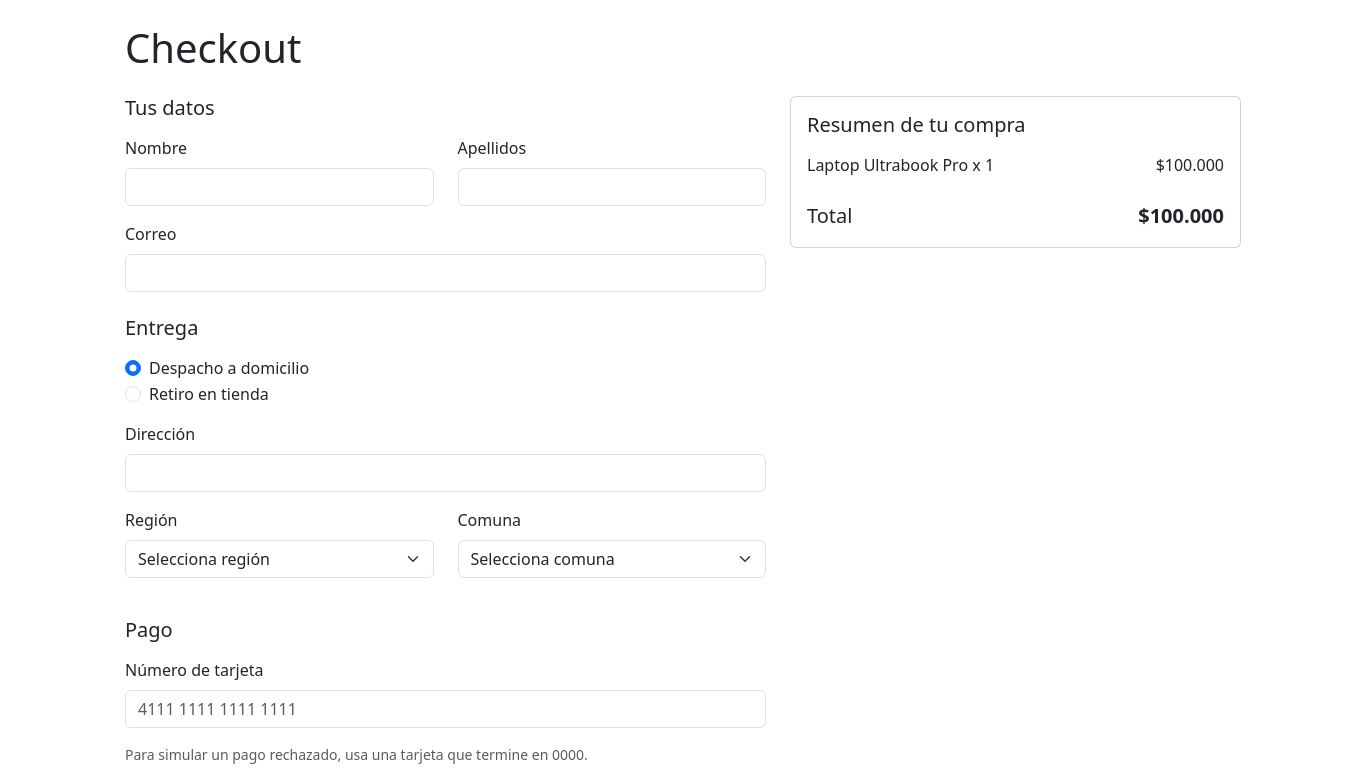
Test: Checkout › oculta los campos de dirección al elegir retiro en tienda
Check: the field labelled "Dirección" is shown, box [125,454,766,492]
Click the radio button labelled "Retiro en tienda".
click(133, 394)  # box [125,386,141,402]
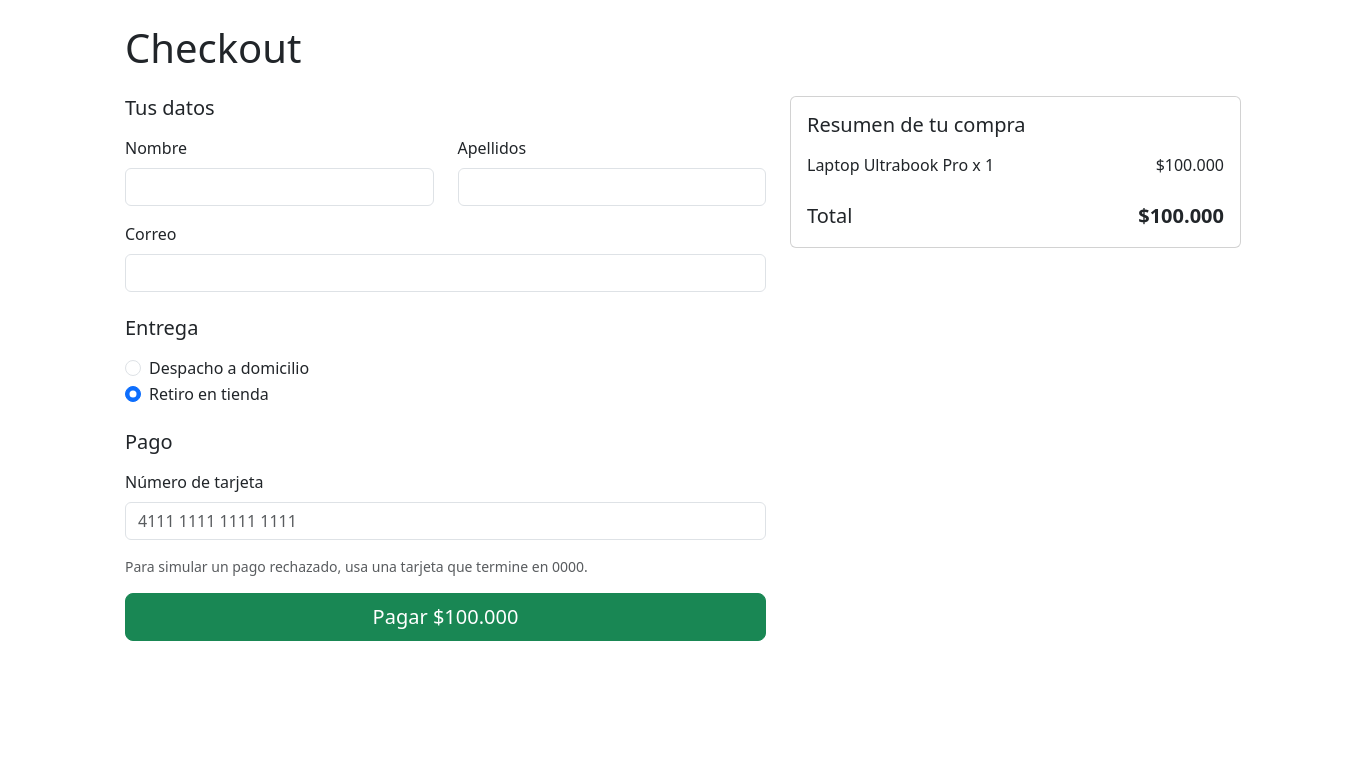
Check: the label labelled "Dirección" is gone
